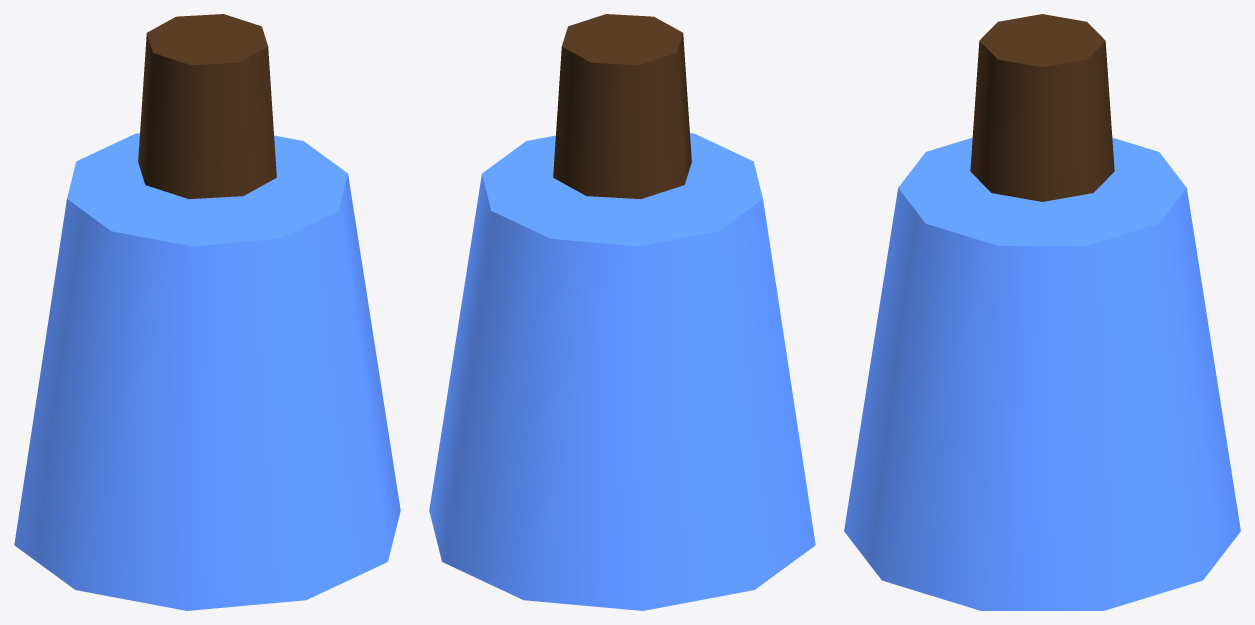
Rendered from mana_potion.glb.
3 renders of one model, left to right at view 1: azimuth 30°, elevation 25°; view 2: azimuth 150°, elevation 25°; view 3: azimuth 270°, elevation 25°, orthographic.
Parts seen in each view (by area): view 1: mana-potion-bottle, mana-potion-cork; view 2: mana-potion-bottle, mana-potion-cork; view 3: mana-potion-bottle, mana-potion-cork.
Part boxes in pixels (x1=…): mana-potion-bottle: x1=14, y1=133, x2=400, y2=610; mana-potion-cork: x1=138, y1=14, x2=276, y2=199; mana-potion-bottle: x1=429, y1=133, x2=815, y2=610; mana-potion-cork: x1=553, y1=14, x2=691, y2=199; mana-potion-bottle: x1=844, y1=137, x2=1240, y2=610; mana-potion-cork: x1=970, y1=14, x2=1114, y2=201.
Size of the model in its own units: 0.4185 by 0.6 by 0.44.
